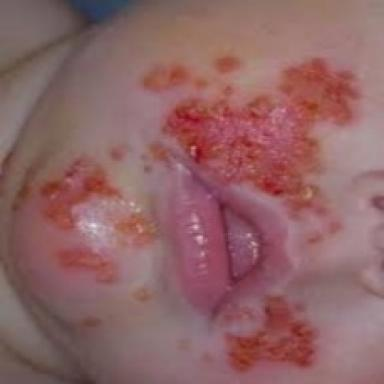Impetigo: (141, 54, 365, 248), (11, 151, 123, 232), (219, 292, 320, 375), (53, 244, 123, 286), (113, 209, 159, 242), (146, 142, 174, 161), (132, 284, 157, 304)
